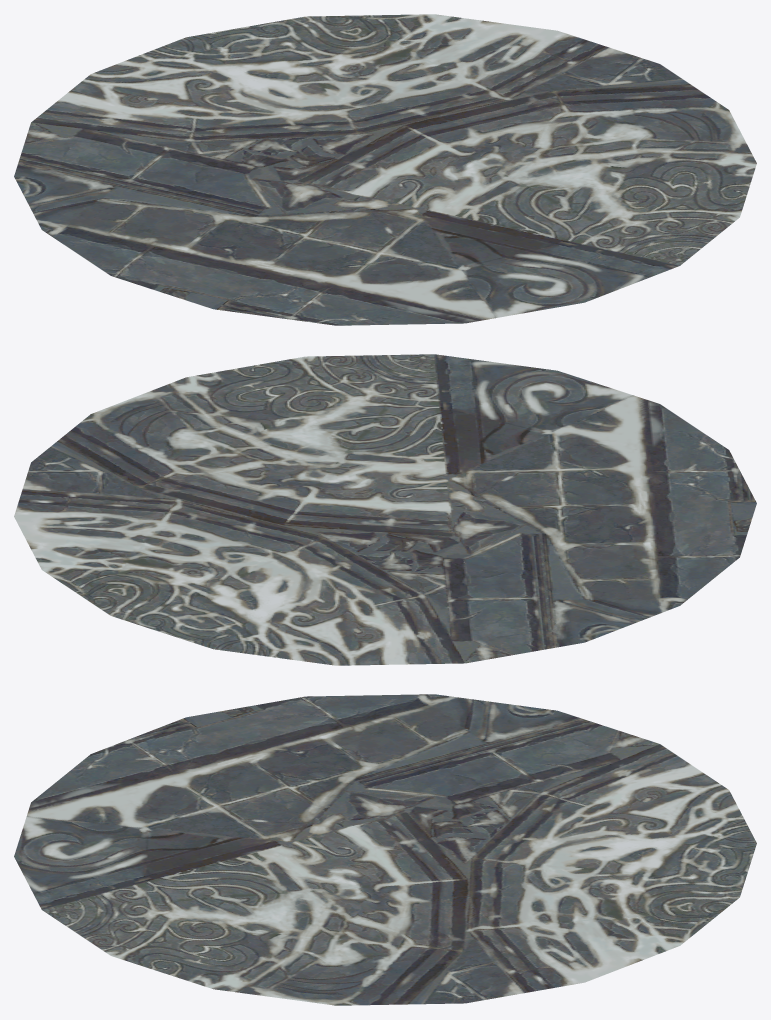
File: 2005_pengzhuang_1.FBX
3 views of the same model, one above another, from view 1: azimuth 30°, elevation 25°; view 2: azimuth 150°, elevation 25°; view 3: azimuth 270°, elevation 25° (orthographic).
Visible parts, largest first — view 1: 2005_pengzhuang_1; view 2: 2005_pengzhuang_1; view 3: 2005_pengzhuang_1.
Boxes of the visible parts, x1,y1,x2,y2 form: 2005_pengzhuang_1: (14, 14, 756, 325); 2005_pengzhuang_1: (14, 354, 756, 665); 2005_pengzhuang_1: (14, 694, 756, 1005).
Bounding box in the file's own units: 1451 × 6.1e-05 × 1463.
